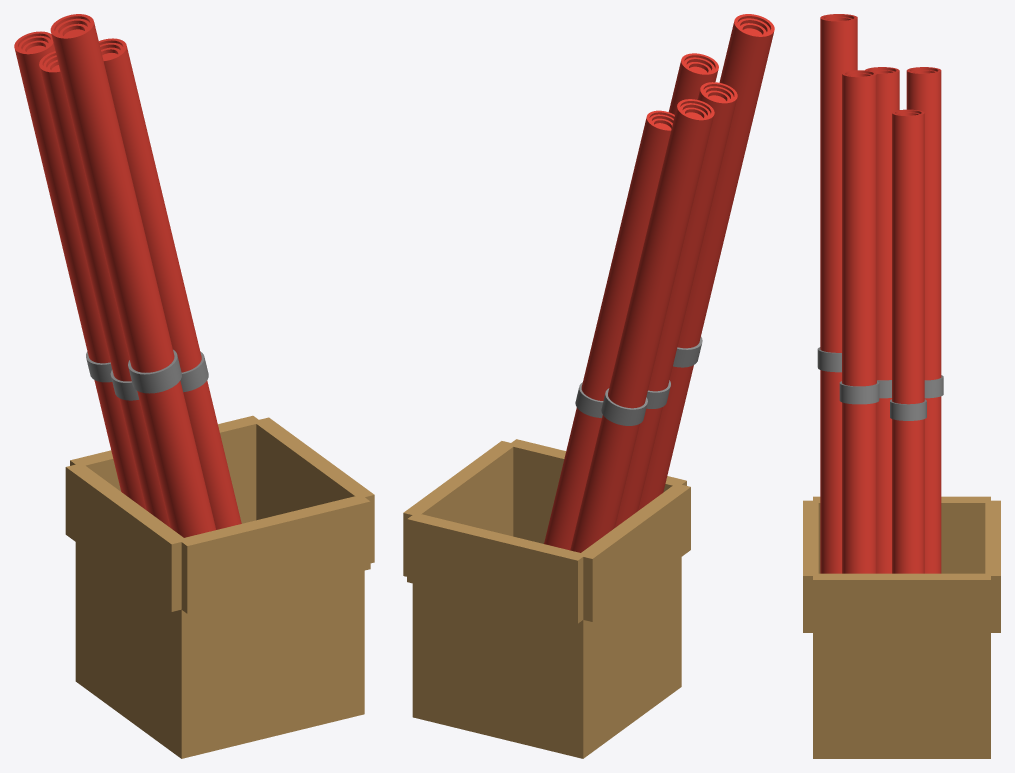
The model's file is BoxRolls.fbx.
The picture shows the model from 3 angles, left to right: view 1: azimuth 30°, elevation 25°; view 2: azimuth 150°, elevation 25°; view 3: azimuth 270°, elevation 25°; orthographic projection. The views are drawn at different scales.
Visible parts, largest first — view 1: Cube, Cylinder.003, Cylinder.006, Cylinder.004, Cylinder.001; view 2: Cube, Cylinder.004, Cylinder.005, Cylinder.003, Cylinder.001, Cylinder.006; view 3: Cube, Cylinder.006, Cylinder.005, Cylinder.003, Cylinder.004, Cylinder.001.
Part boxes in pixels (bbox=[...]): Cube: bbox=[65, 415, 374, 758]; Cylinder.003: bbox=[50, 14, 216, 537]; Cylinder.006: bbox=[99, 38, 241, 529]; Cylinder.004: bbox=[14, 31, 145, 509]; Cylinder.001: bbox=[39, 51, 169, 527]; Cube: bbox=[403, 439, 690, 758]; Cylinder.004: bbox=[570, 99, 714, 552]; Cylinder.005: bbox=[544, 110, 674, 550]; Cylinder.003: bbox=[638, 14, 774, 510]; Cylinder.001: bbox=[615, 82, 737, 527]; Cylinder.006: bbox=[668, 53, 718, 114]; Cube: bbox=[803, 496, 1000, 758]; Cylinder.006: bbox=[839, 70, 879, 573]; Cylinder.005: bbox=[890, 109, 926, 573]; Cylinder.003: bbox=[817, 14, 857, 573]; Cylinder.004: bbox=[906, 67, 943, 573]; Cylinder.001: bbox=[865, 67, 899, 573].
Bounding box in the file's own units: 334 × 781 × 222.
